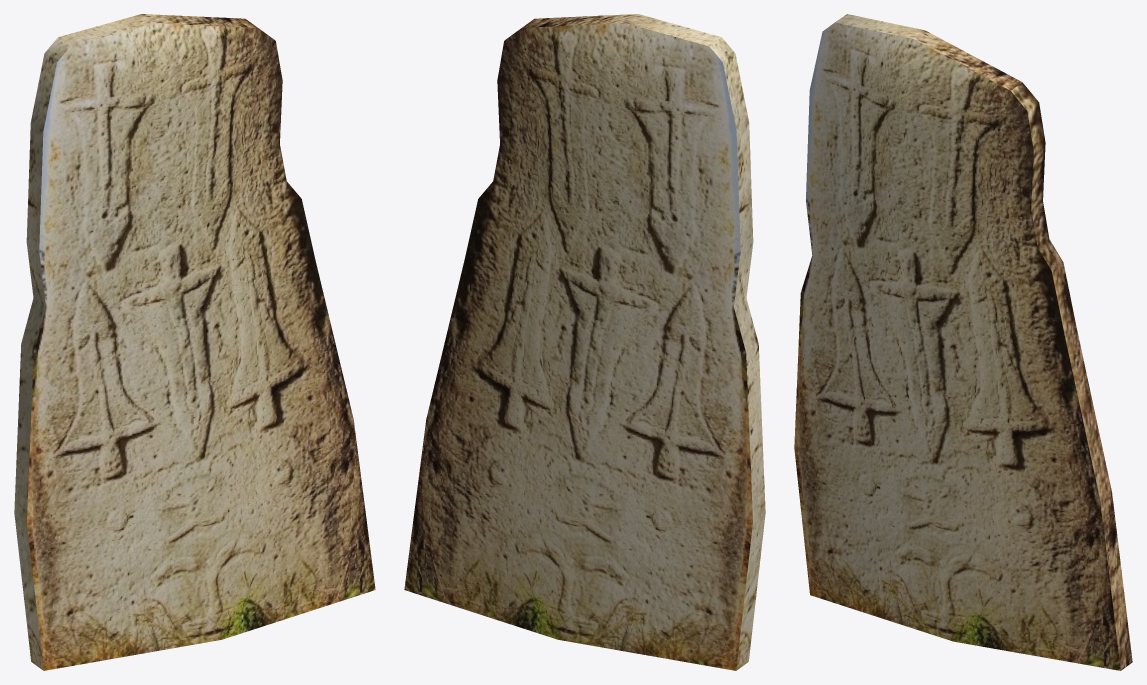
Rendered from Rock1.FBX.
The picture shows the model from 3 angles, left to right: view 1: azimuth 30°, elevation 25°; view 2: azimuth 150°, elevation 25°; view 3: azimuth 330°, elevation 25°; orthographic projection. The views are drawn at different scales.
Parts seen in each view (by area): view 1: 1Rock; view 2: 1Rock; view 3: 1Rock.
Part boxes in pixels (x1,y1,x2,y2): 1Rock: (14,14,375,670); 1Rock: (404,14,765,670); 1Rock: (794,14,1132,670).
Bounding box in the file's own units: 5.34 × 9.08 × 1.
